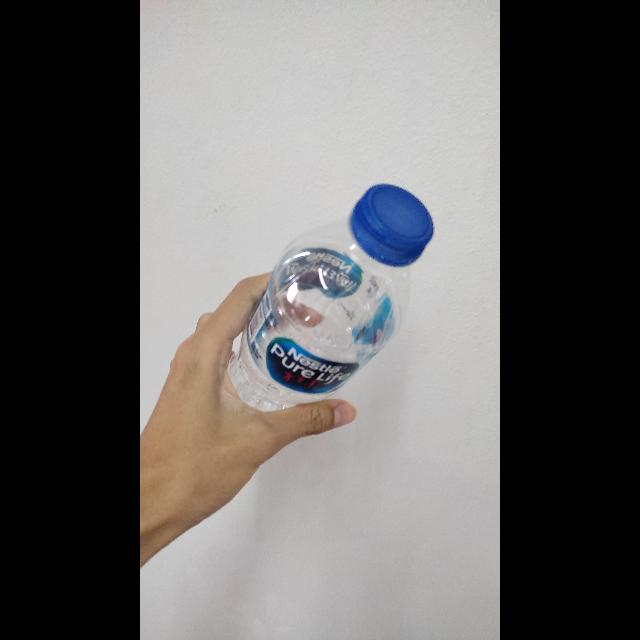plastic_bottle: (228, 176, 458, 410)
plastic_bottle_cap: (350, 176, 434, 264)
